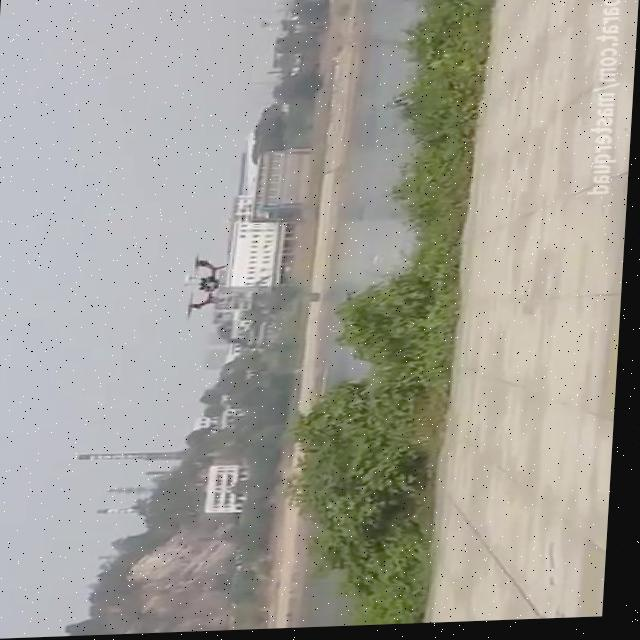drone: (177, 251, 233, 322)
